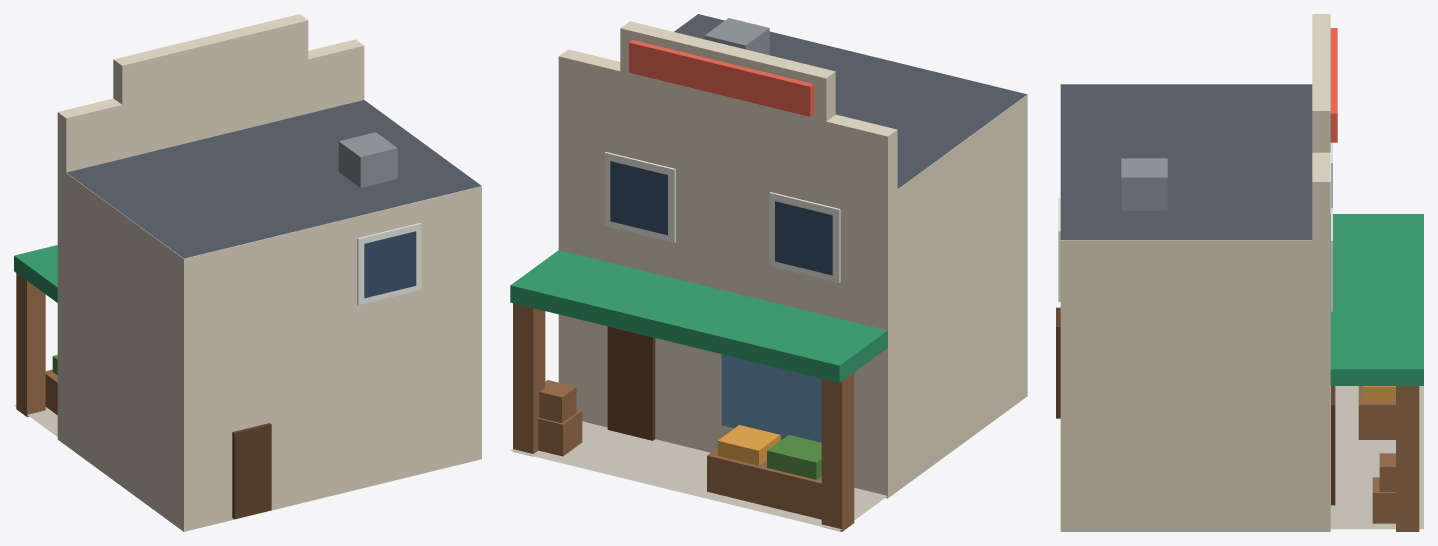
The picture shows the model from 3 angles, left to right: view 1: azimuth 30°, elevation 25°; view 2: azimuth 150°, elevation 25°; view 3: azimuth 270°, elevation 25°; orthographic projection. The views are drawn at different scales.
Parts seen in each view (by area): view 1: shop, roof, false_front, post, door, window_glass, ac_unit, window_frame, awning; view 2: shop, false_front, awning, roof, post (×2), floor, window_glass (×2), storefront, sign, door, stand, window_frame (×2) (+3 smaller); view 3: shop, roof, awning, floor, false_front, post, ac_unit, stand, crate (×2), door (×2), sign, produce.
Boxes of the visible parts, <box> form: shop: <box>57,167,481,531</box>; roof: <box>67,100,481,258</box>; false_front: <box>57,14,364,172</box>; post: <box>16,273,45,416</box>; door: <box>232,423,271,519</box>; window_glass: <box>364,231,416,298</box>; ac_unit: <box>338,132,397,187</box>; window_frame: <box>357,223,421,305</box>; awning: <box>14,245,57,302</box>; shop: <box>558,94,1027,498</box>; false_front: <box>558,21,897,196</box>; awning: <box>510,250,887,382</box>; roof: <box>674,14,1026,188</box>; post (×2): <box>513,303,854,531</box>; floor: <box>511,421,887,530</box>; window_glass (×2): <box>610,161,832,275</box>; storefront: <box>721,354,821,442</box>; sign: <box>629,40,813,116</box>; door: <box>607,326,655,440</box>; stand: <box>707,448,821,519</box>; window_frame (×2): <box>604,152,840,282</box>; shop: <box>1060,240,1330,531</box>; roof: <box>1060,84,1312,239</box>; awning: <box>1330,214,1423,385</box>; floor: <box>1330,386,1423,529</box>; false_front: <box>1312,14,1330,240</box>; post: <box>1396,386,1419,531</box>; ac_unit: <box>1121,158,1167,210</box>; stand: <box>1358,386,1395,439</box>; crate (×2): <box>1372,453,1395,523</box>; door (×2): <box>1056,307,1335,505</box>; sign: <box>1330,28,1337,142</box>; produce: <box>1363,386,1395,401</box>.
Bounding box in the file's own units: 8 × 9.4 × 8.
